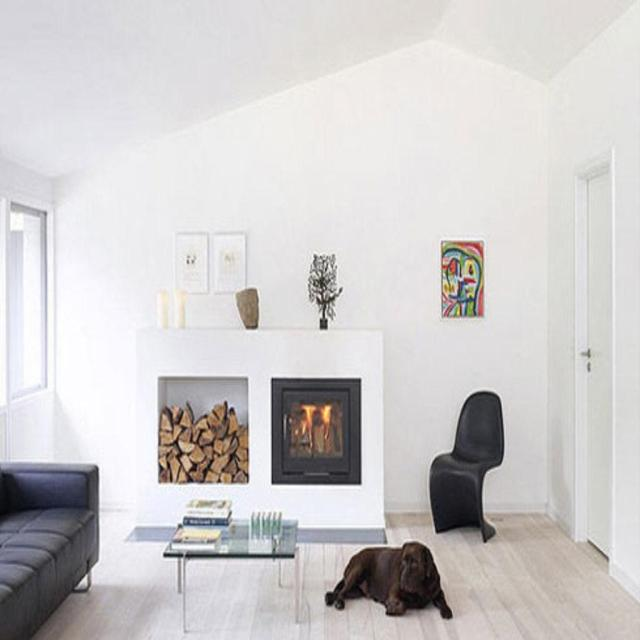Fire: (286, 402, 342, 453)
